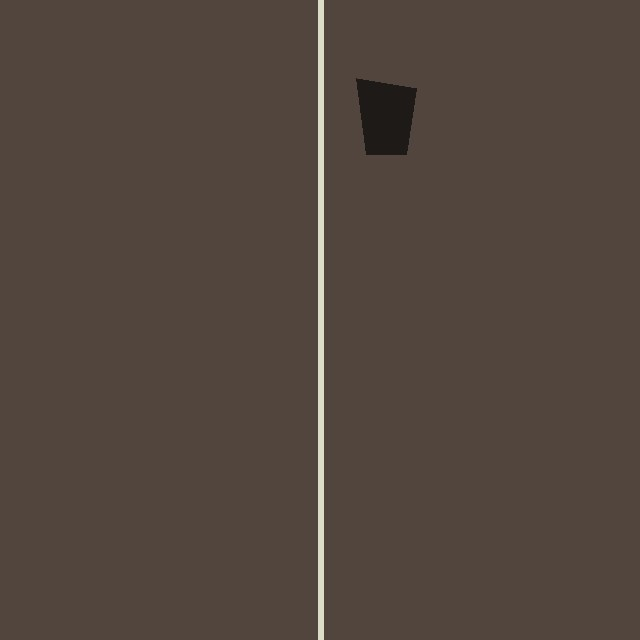damaged_surface: (356, 78, 416, 154)
